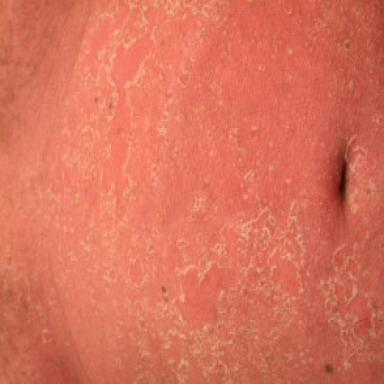eczema: (49, 3, 384, 381)
